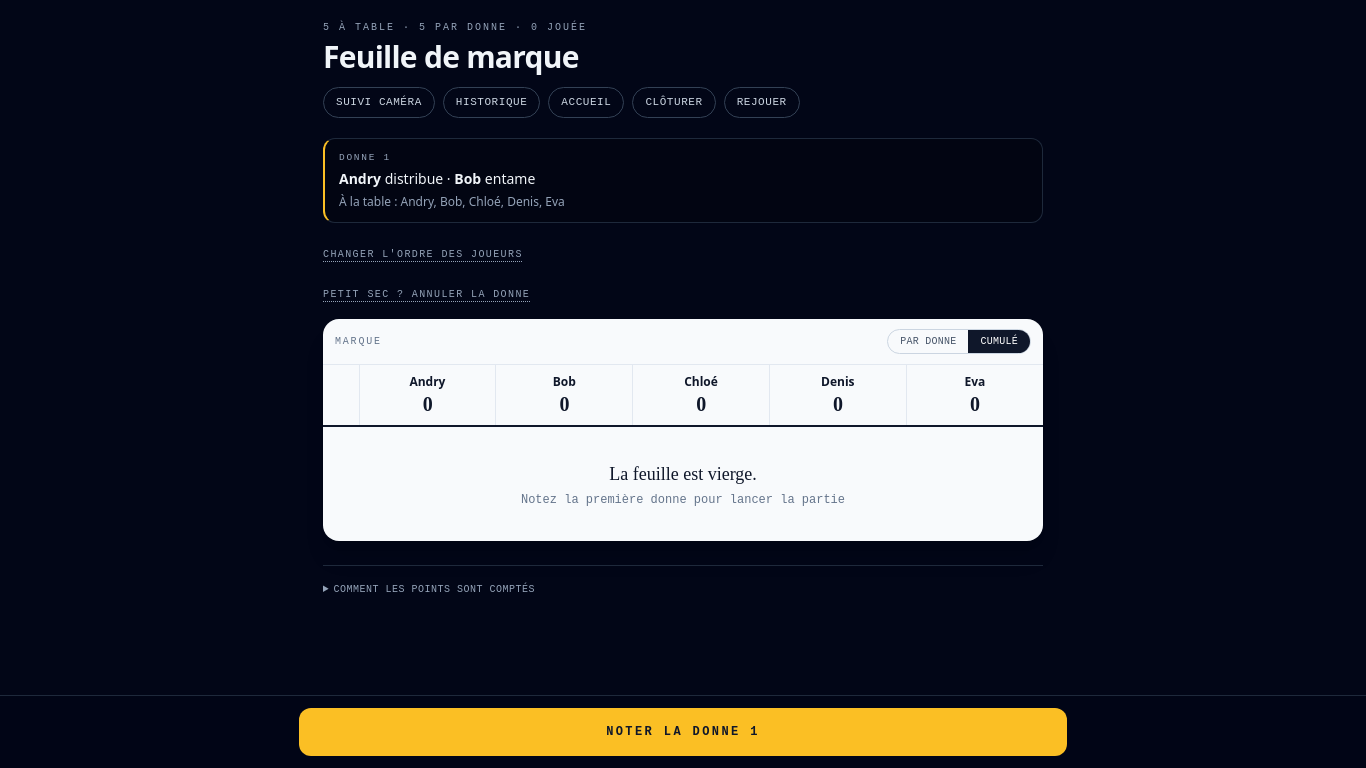
Test: Plusieurs tables ouvertes en même temps › Changer l'ordre des joueurs garde le donneur et le classement
This screenshot has width=1366, height=768.
Click the button "Noter la donne 1". click: click(683, 732)
box: [299, 708, 1067, 756]
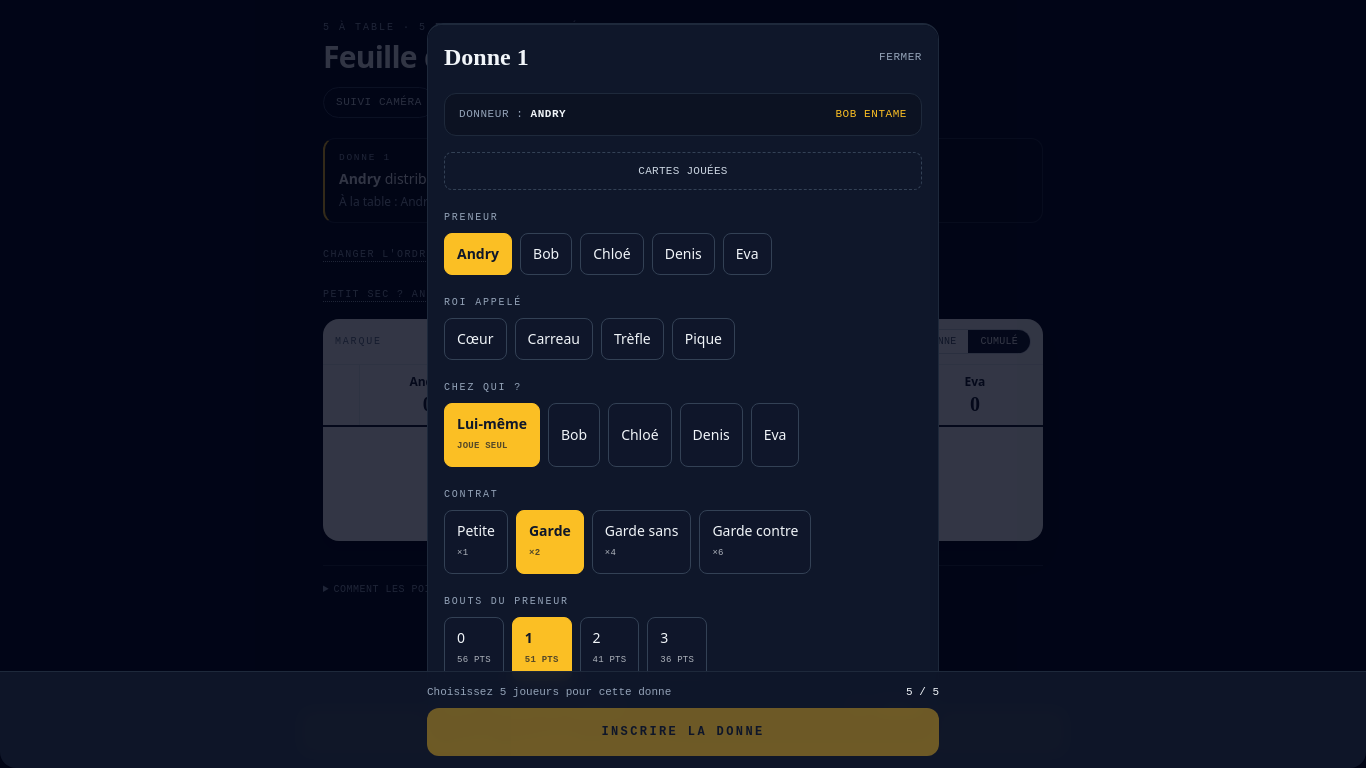
Click the button "Cœur". click: click(475, 339)
box: [444, 318, 506, 360]
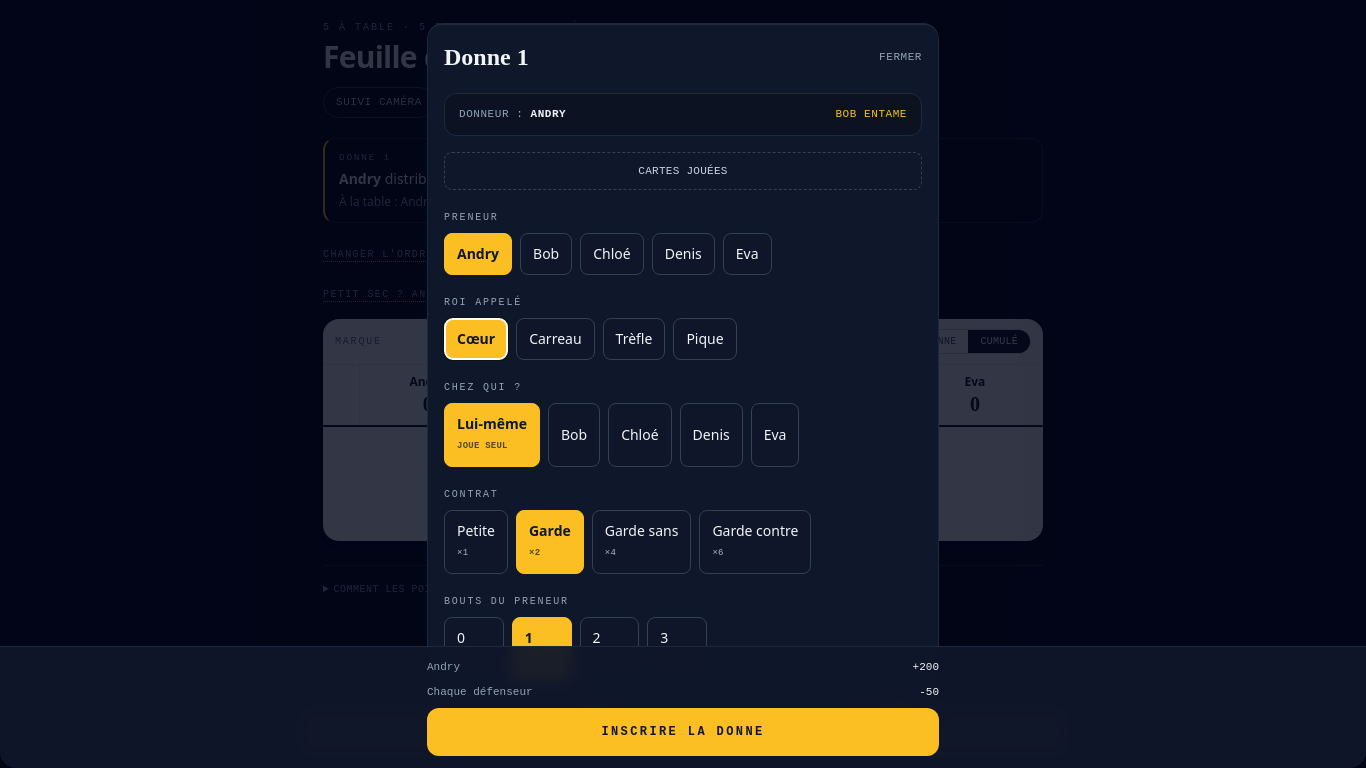
Click the button "Inscrire la donne". click: click(683, 732)
box: [427, 708, 939, 756]
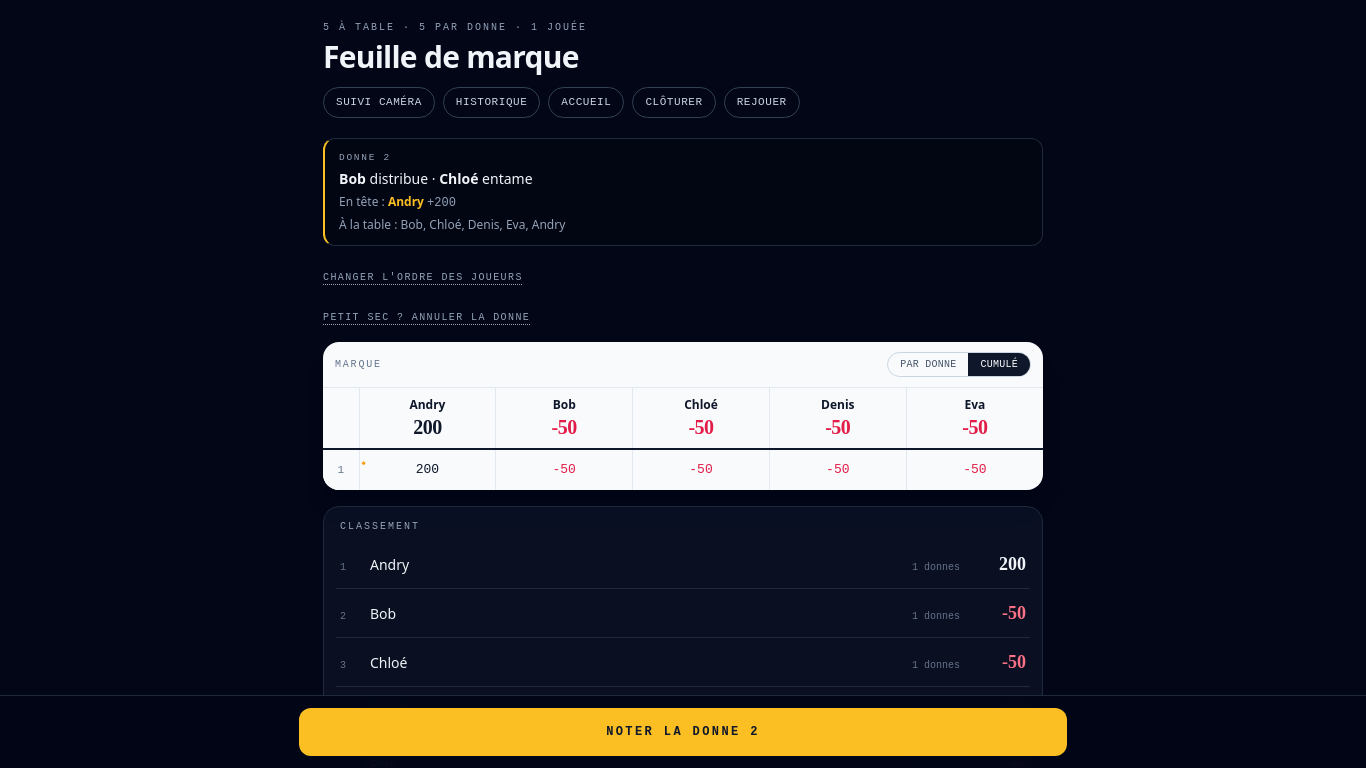
Now the button "Noter la donne 2" is shown, box [299, 708, 1067, 756]
Click the button "Changer l'ordre des joueurs". click: click(423, 278)
box: [323, 270, 523, 285]
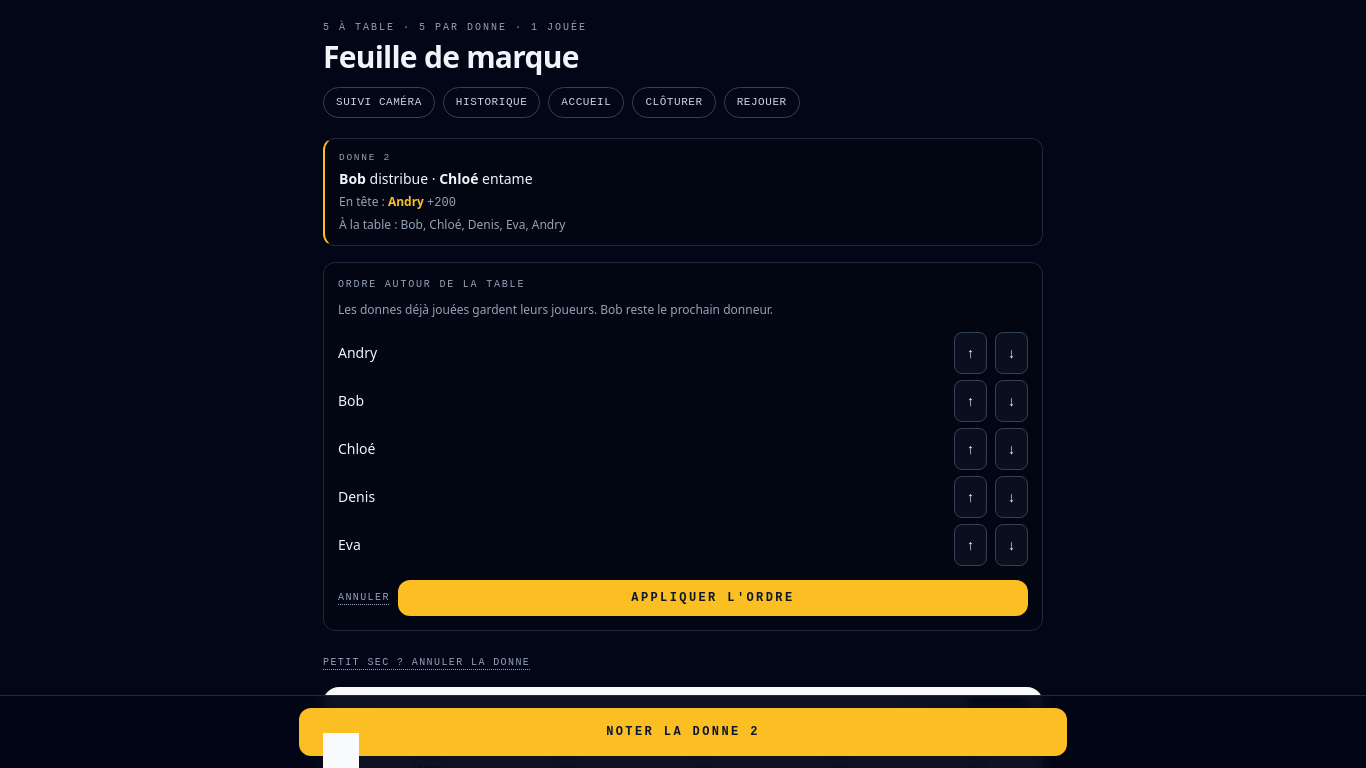
Click the button named "Descendre Andry". click: click(1012, 352)
box: [995, 332, 1028, 374]
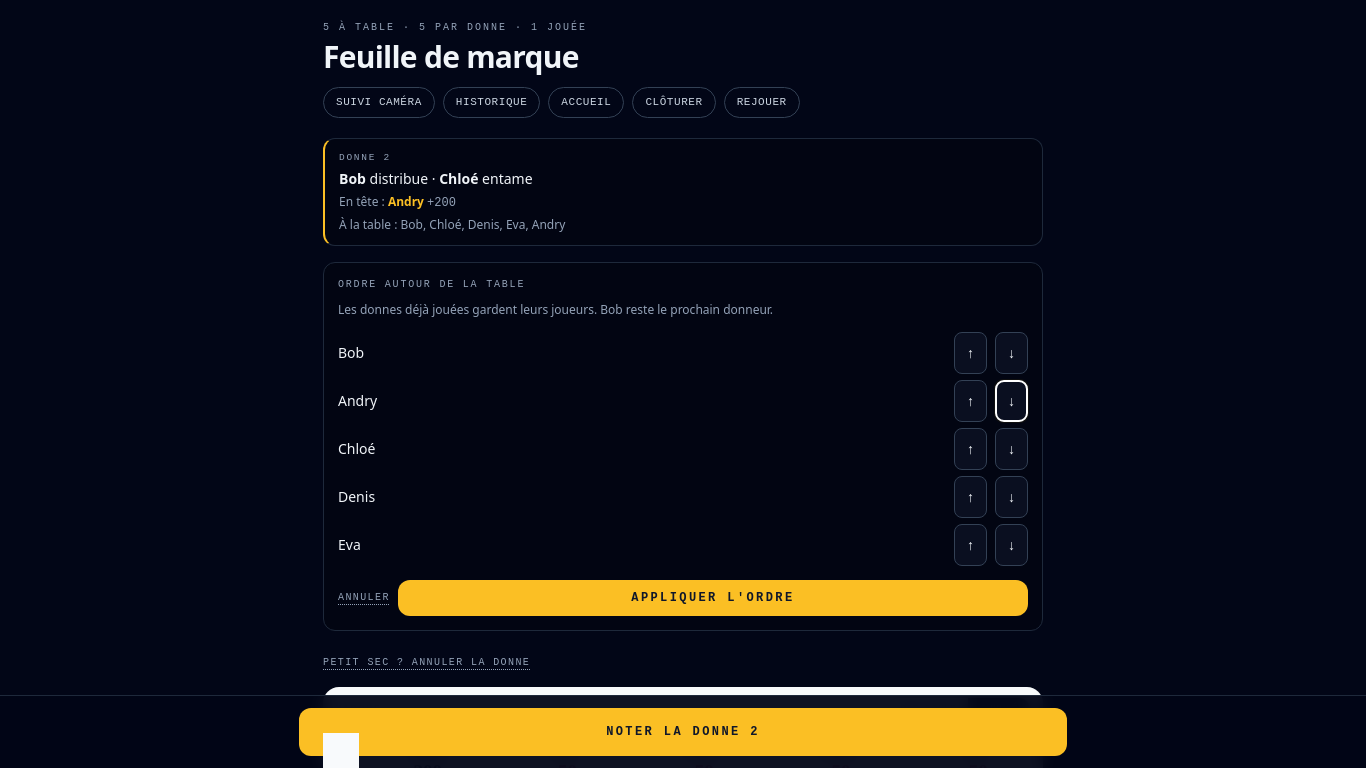
Click the button "Appliquer l'ordre". click: click(713, 598)
box: [398, 580, 1028, 616]
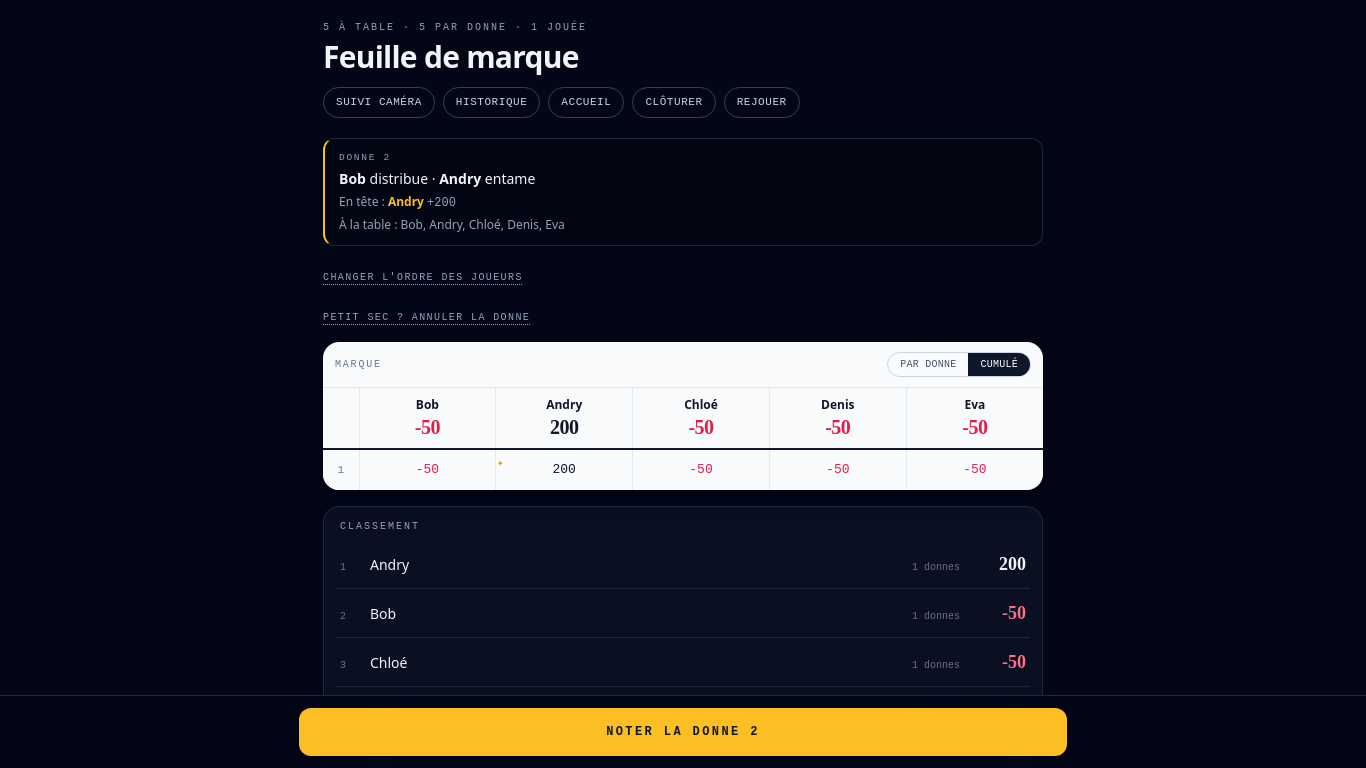
Now the text "Bob" next to "distribue ·" is shown, box [339, 169, 366, 188]
Now the element with test id "changer-ordre" is gone
